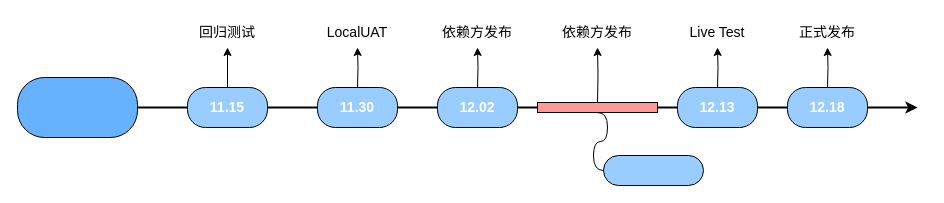
Image size: 944x203. Some labels were removed from this diagram. The shapes that lost their labels are listed below. From the top down, each one's centre as x and y in pixels, then its label:
the point at 77,107: 迁移项目
the point at 653,170: 双12封网
